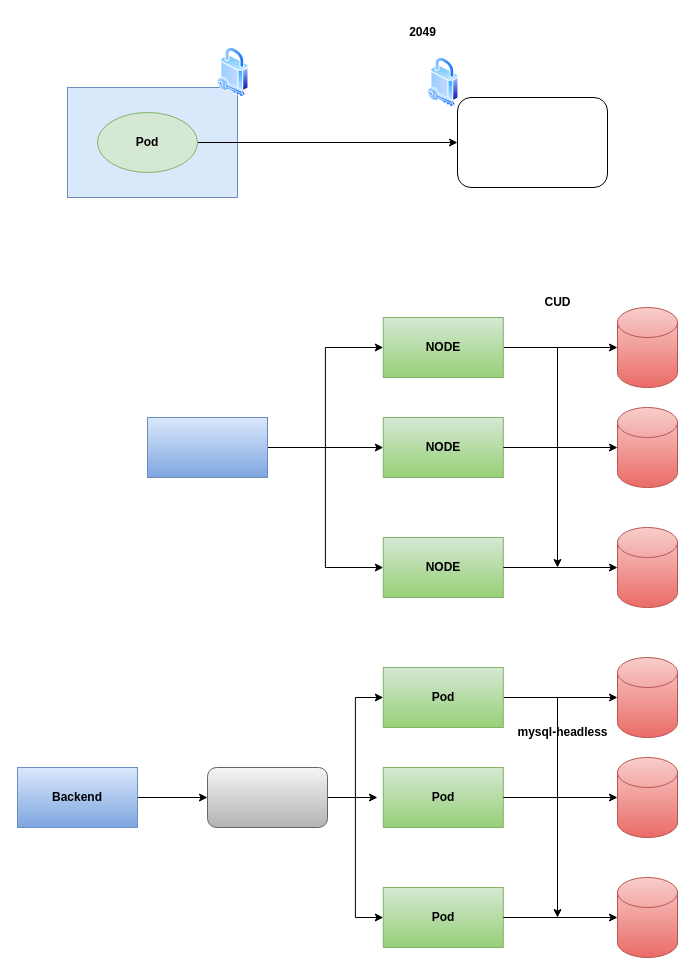
This 695x975 diagram has some shape labels left out. Here are the shapes that lost their labels. From the top down, the box of each, then its label:
(456, 96, 608, 188): NFS
(146, 416, 268, 478): MySQL Master
(206, 766, 328, 828): MySQL
